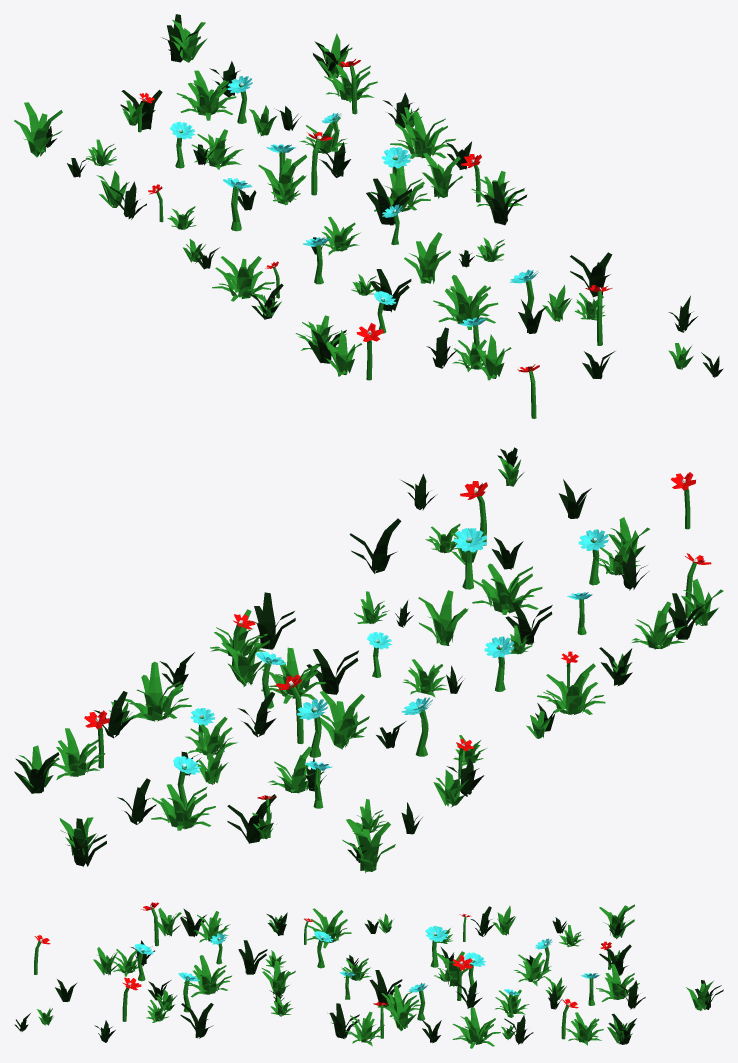
Rendered from Grass_scatter_2.fbx.
3 renders of one model, top to bottom at view 1: azimuth 30°, elevation 25°; view 2: azimuth 150°, elevation 25°; view 3: azimuth 270°, elevation 25°, orthographic. The views are drawn at different scales.
Parts seen in each view (by area): view 1: Grass_scatter; view 2: Grass_scatter; view 3: Grass_scatter.
Boxes of the visible parts, <box> form: Grass_scatter: <box>14,14,723,418</box>; Grass_scatter: <box>14,447,723,873</box>; Grass_scatter: <box>14,902,723,1048</box>.
Bounding box in the file's own units: 3.61 × 0.6128 × 8.92.
